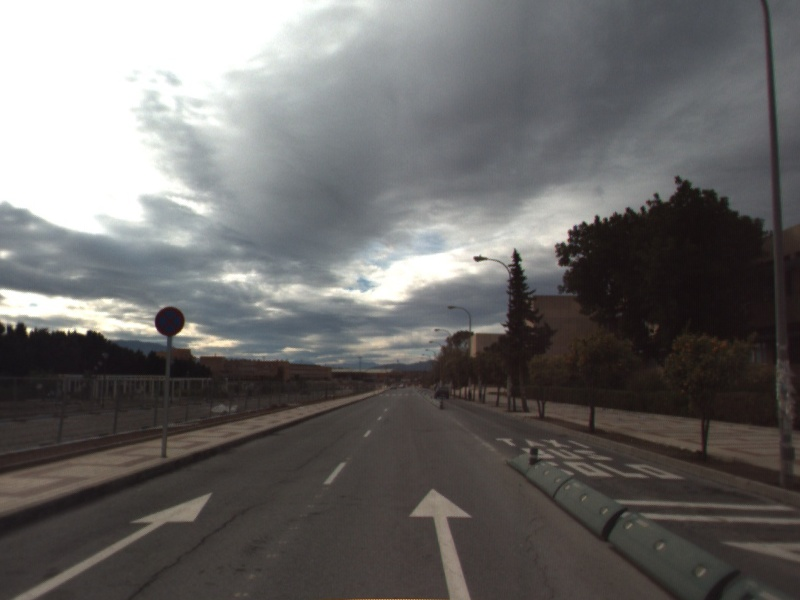STRAIGHT: (8, 490, 215, 600), (406, 486, 475, 600)
